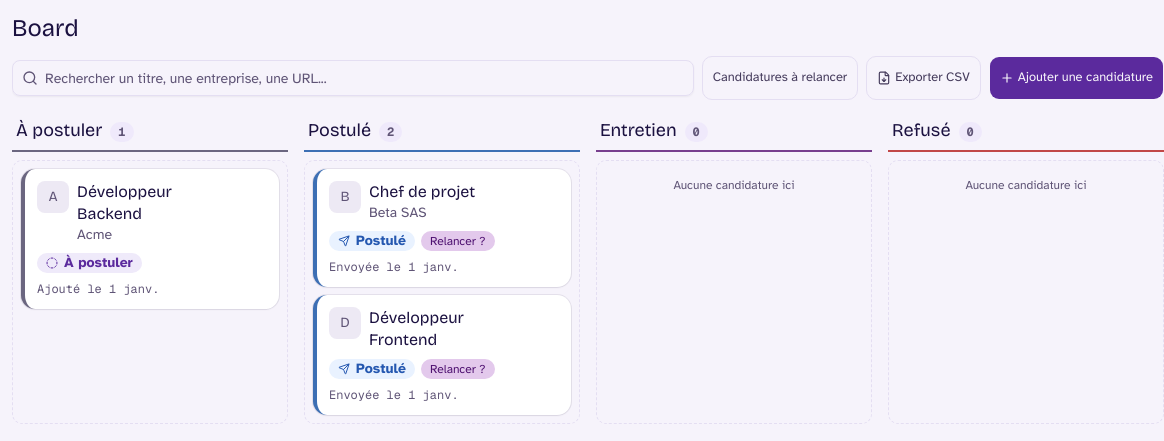
Scenario: Board search › combines the search query with the follow-up filter (AND)
The width and height of the screenshot is (1164, 441).
Click the button "Candidatures à relancer".
click(780, 78)  # box [702,56,858,100]
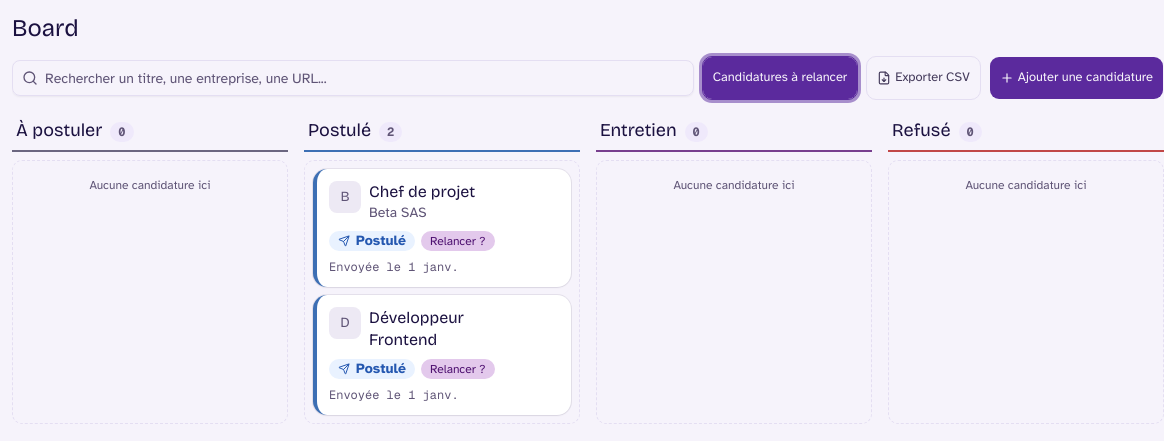
Expected: the text "Développeur Frontend" is shown, [369,308,464,349]
Type "backend" into the field with placeholder "Rechercher un titre, une entreprise, une URL...".
click(353, 78); type("backend")  # box [12,60,694,96]
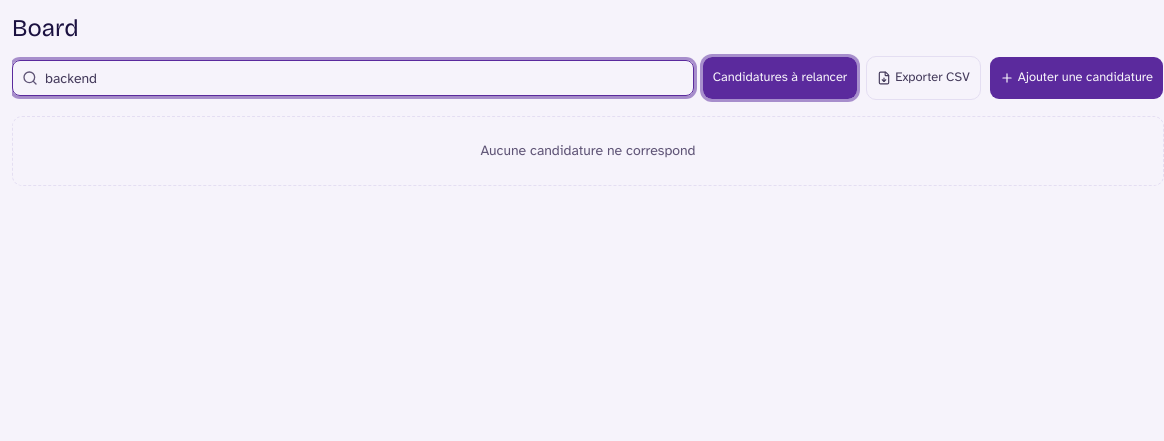
Now the text "Aucune candidature ne correspond" is shown, box [12,116,1163,186]
Now the button "Développeur Frontend" is gone
